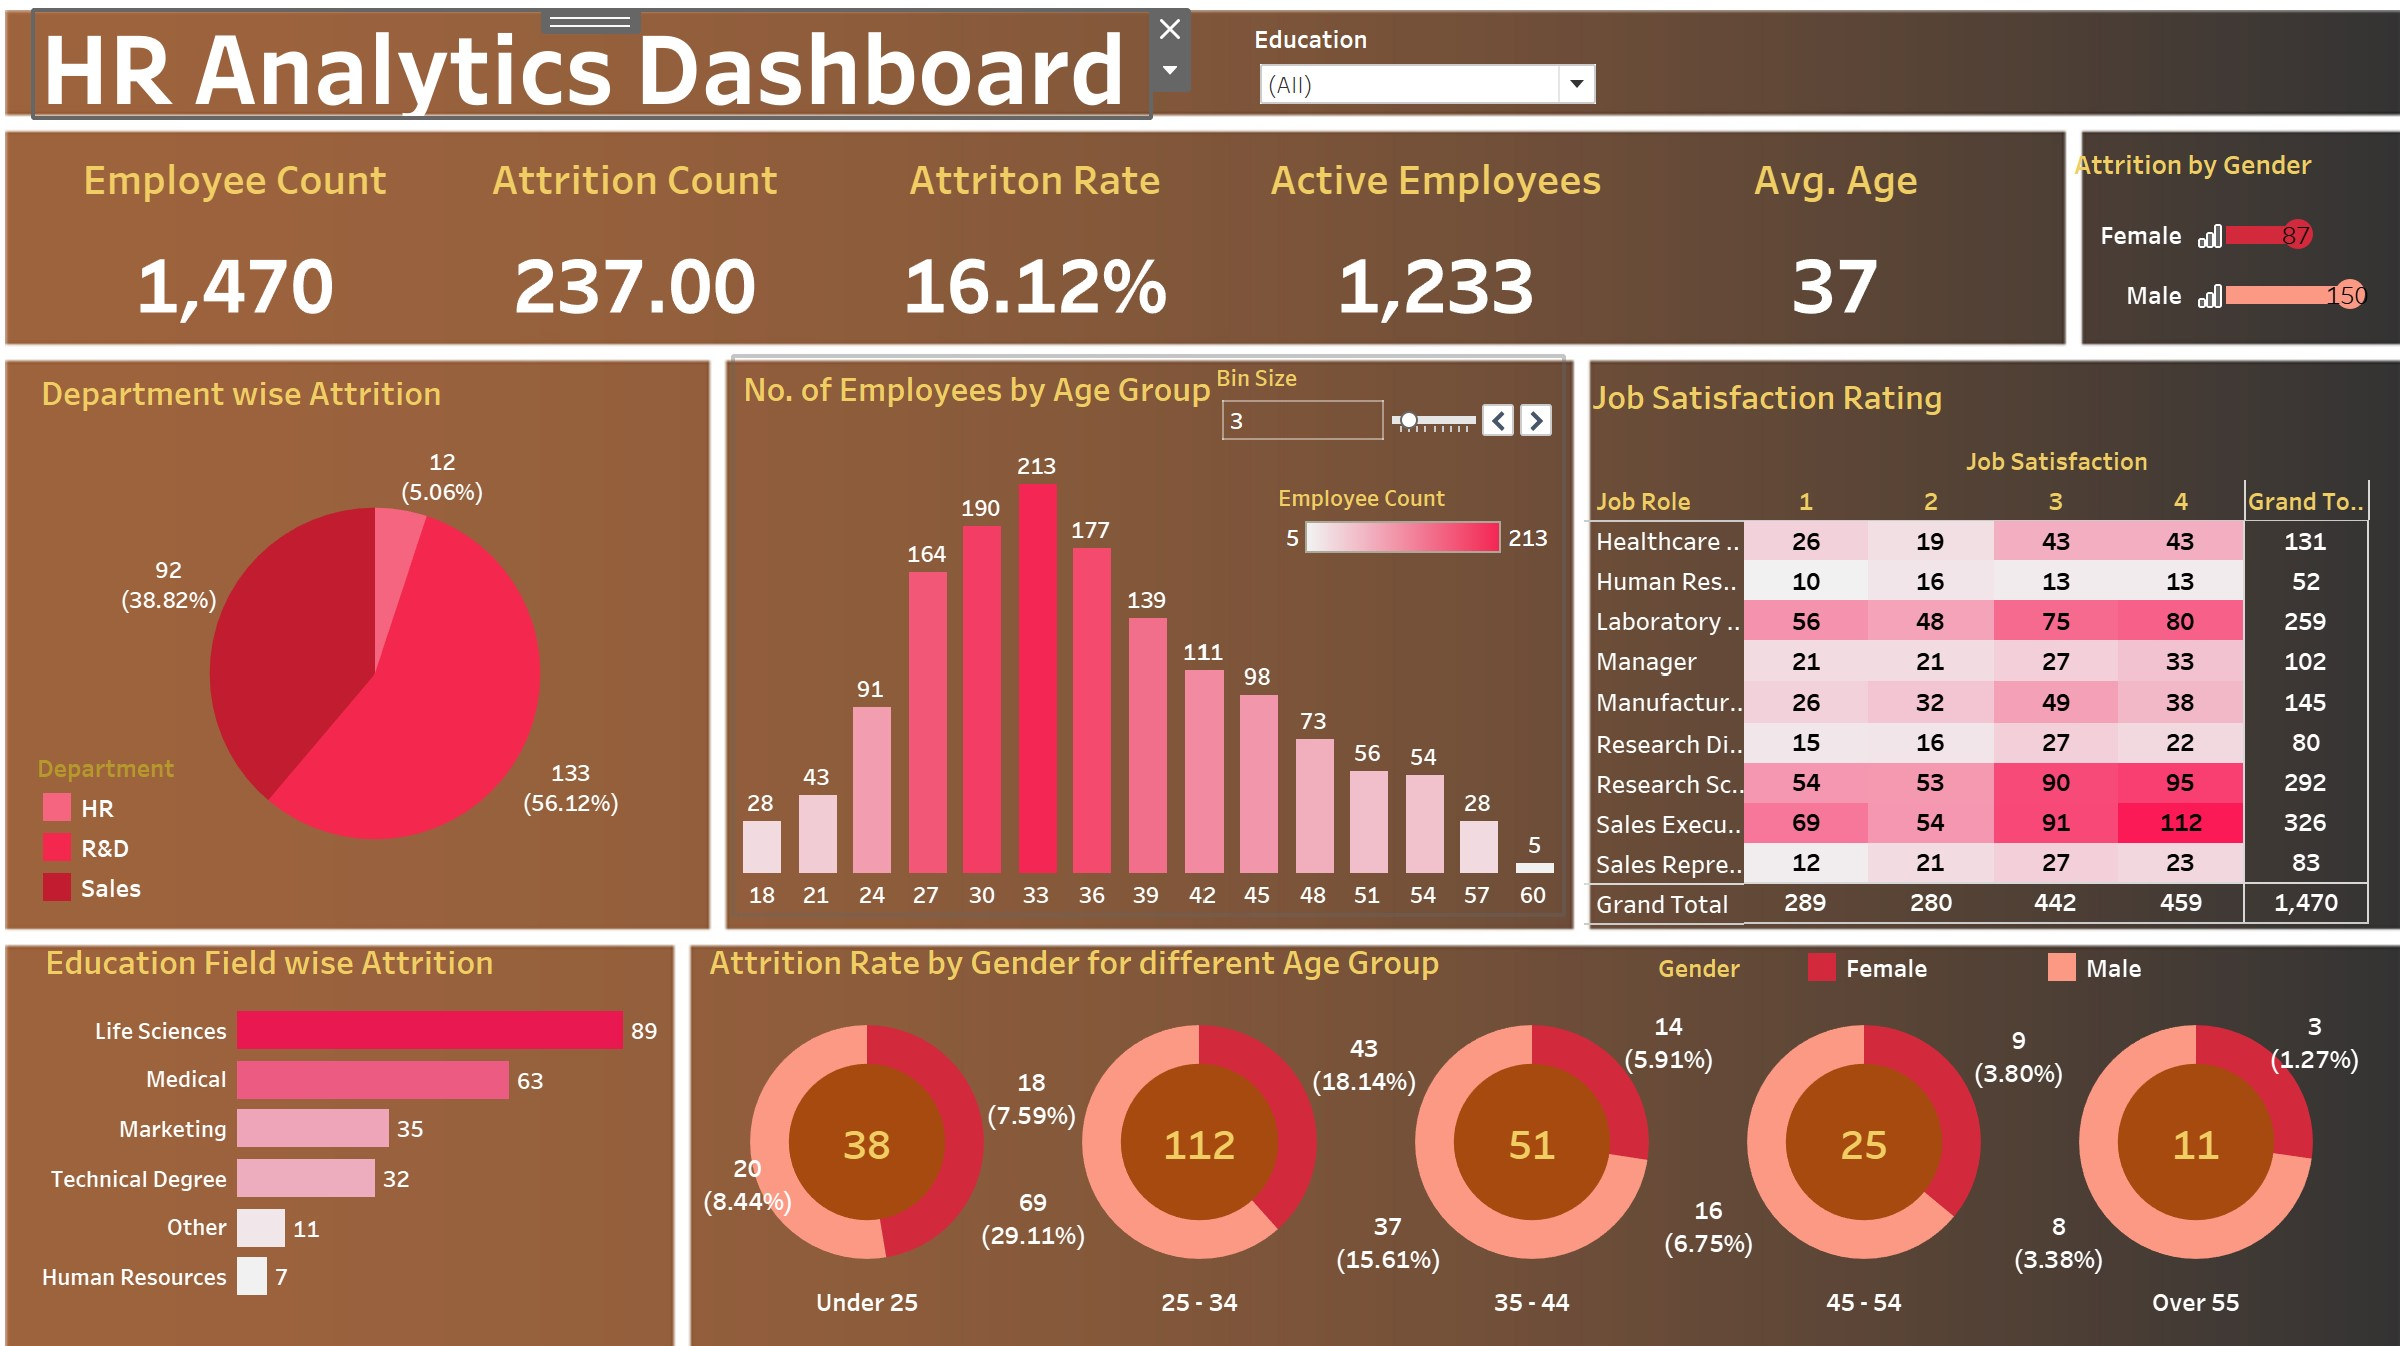

Layout of this report page (visuals, bound fields, positions):
{"tool":"tableau","page":{"name":"HR Analytics Dashboard","canvas":[1000,1000],"units":"permille","ordinal":0},"visuals":[{"type":"image","param":"D:/Aditya's Notes/All Projects/Tableau Projects/Background.jpg","box":[3.2,11.8,997.6,989.6]},{"type":"text","box":[27.1,13.3,452.6,76.9]},{"type":"filter","title":"Department wise Attrition","param":"[federated.1d2eagx11fctfk1c49iaq1b32f3h].[none:Education:nk]","box":[522.4,20.7,141.6,71]},{"type":"worksheet","title":"KPI","mark":"Automatic","box":[26.9,106.5,813.7,152.4]},{"type":"worksheet","title":"Attrition by Gender","mark":"Automatic","rows":["Gender"],"cols":["Calculation_6430858799944929280","Calculation_6430858799944929280"],"box":[852.6,106.5,125.1,142]},{"type":"worksheet","title":"No. of Employees by Age Group","mark":"Automatic","rows":["Employee Count"],"cols":["Age (bin)"],"box":[311.6,269.2,336.1,409.8]},{"type":"worksheet","title":"Department wise Attrition","mark":"Pie","box":[25.8,272.2,278,405.3]},{"type":"parameter","param":"[Parameters].[Parameter 1]","box":[506.9,272.2,139.1,78.4]},{"type":"worksheet","title":"Job Satisfaction Rating","mark":"Square","rows":["Job Role"],"cols":["Job Satisfaction"],"box":[656.6,275.2,319.5,412.7]},{"type":"legend","title":"No. of Employees by Age Group","param":"[federated.1d2eagx11fctfk1c49iaq1b32f3h].[sum:Employee Count:qk]","box":[532.1,360.9,113.9,112.4]},{"type":"legend","title":"Department wise Attrition","param":"[federated.1d2eagx11fctfk1c49iaq1b32f3h].[none:Department:nk]","box":[27.7,559.2,74.9,115.4]},{"type":"worksheet","title":"Education Field wise Attrition","mark":"Automatic","rows":["Education Field"],"cols":["Calculation_6430858799944929280"],"box":[27.7,692.3,264.4,288.5]},{"type":"worksheet","title":"Attrition Rate by Gender for different Age Group","mark":"Pie","rows":["Calculation_6807190844134060033","Calculation_6807190844134060033"],"cols":["CF_age band"],"box":[297.8,692.3,675.4,288.5]},{"type":"legend","title":"Attrition Rate by Gender for different Age Group","param":"[federated.1d2eagx11fctfk1c49iaq1b32f3h].[none:Gender:nk]","box":[686.9,704.1,290,39.9]}]}

Visuals, with their boxes on the dashboard's canvas, which has no fixed pixel size, in thousandths of its width and height (x1, y1, x2, y2). These are canvas units, not pixel positions in the 2400x1346 screenshot, which may show the page scaled, cropped or inside an application window:
image: Rect(3, 12, 1001, 1001)
text: Rect(27, 13, 480, 90)
"Department wise Attrition" filter: Rect(522, 21, 664, 92)
"KPI" worksheet: Rect(27, 106, 841, 259)
"Attrition by Gender" worksheet: Rect(853, 106, 978, 248)
"No. of Employees by Age Group" worksheet: Rect(312, 269, 648, 679)
"Department wise Attrition" worksheet (Pie marks): Rect(26, 272, 304, 678)
parameter: Rect(507, 272, 646, 351)
"Job Satisfaction Rating" worksheet (Square marks): Rect(657, 275, 976, 688)
"No. of Employees by Age Group" legend: Rect(532, 361, 646, 473)
"Department wise Attrition" legend: Rect(28, 559, 103, 675)
"Education Field wise Attrition" worksheet: Rect(28, 692, 292, 981)
"Attrition Rate by Gender for different Age Group" worksheet (Pie marks): Rect(298, 692, 973, 981)
"Attrition Rate by Gender for different Age Group" legend: Rect(687, 704, 977, 744)
